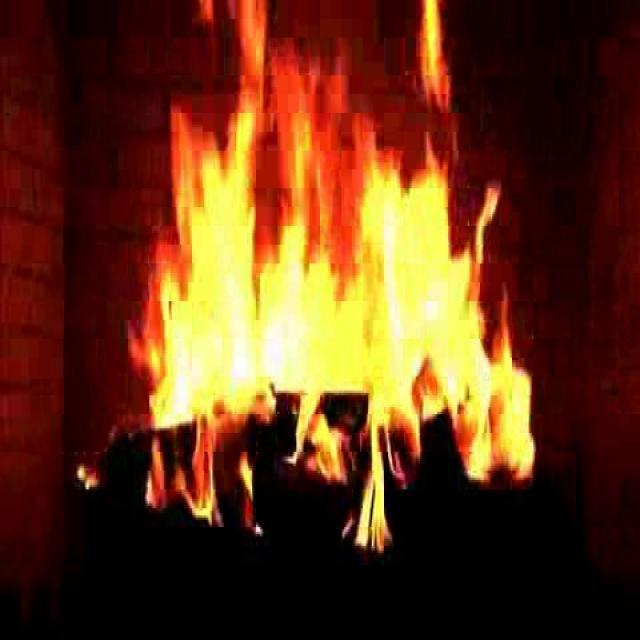Fire: (118, 0, 550, 548)
